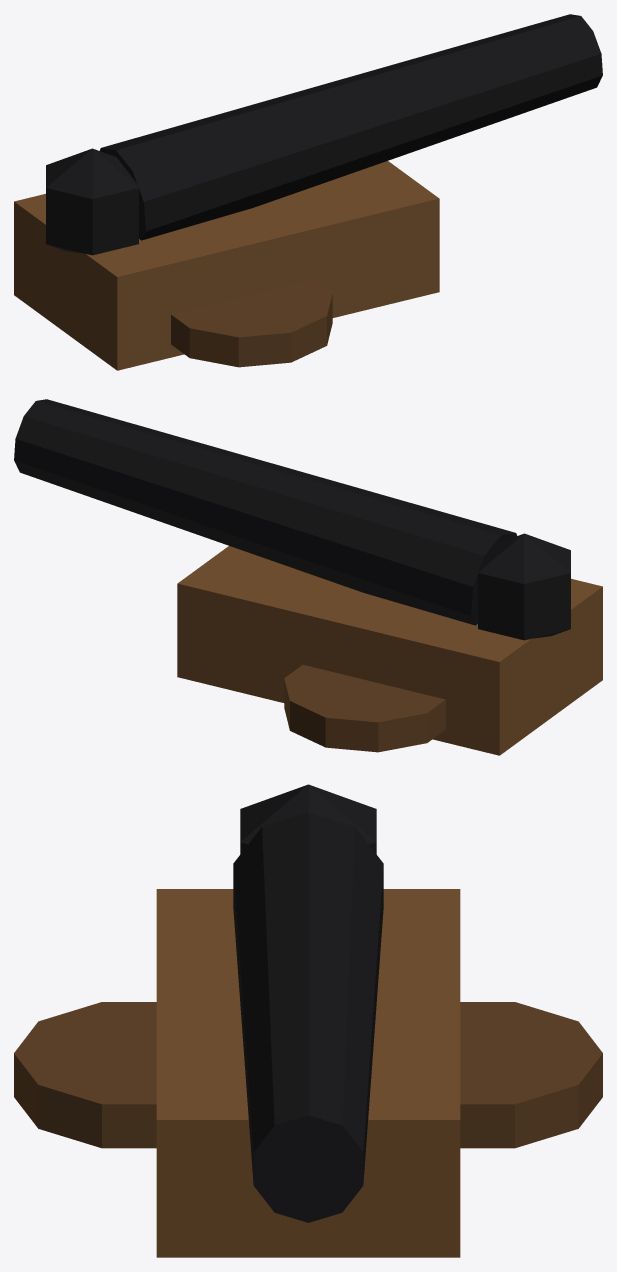
File: canon_colonial.obj
3 views of the same model, one above another, from view 1: azimuth 30°, elevation 25°; view 2: azimuth 150°, elevation 25°; view 3: azimuth 270°, elevation 25° (orthographic). The views are drawn at different scales.
Visible parts, largest first — view 1: canon_colonial; view 2: canon_colonial; view 3: canon_colonial.
Boxes of the visible parts, x1,y1,x2,y2 form: canon_colonial: (14, 14, 602, 370); canon_colonial: (14, 399, 602, 755); canon_colonial: (14, 784, 602, 1257).
Bounding box in the file's own units: 3.02 × 1.02 × 1.94.
